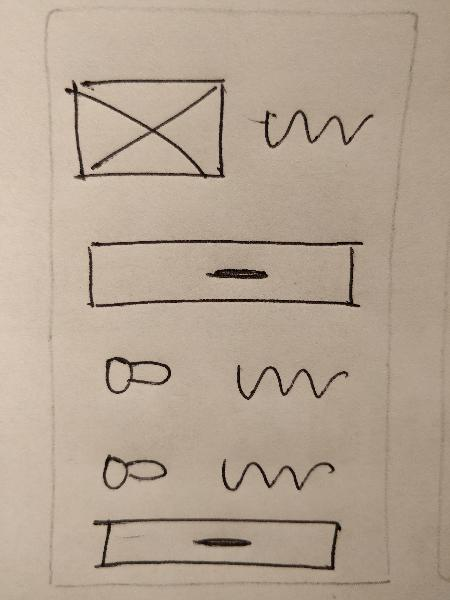button: (82, 231, 367, 319), (87, 512, 345, 574)
image: (60, 70, 239, 187)
switch: (90, 349, 192, 401), (90, 447, 179, 497)
text: (247, 99, 376, 155), (215, 446, 336, 504), (226, 357, 354, 410)
